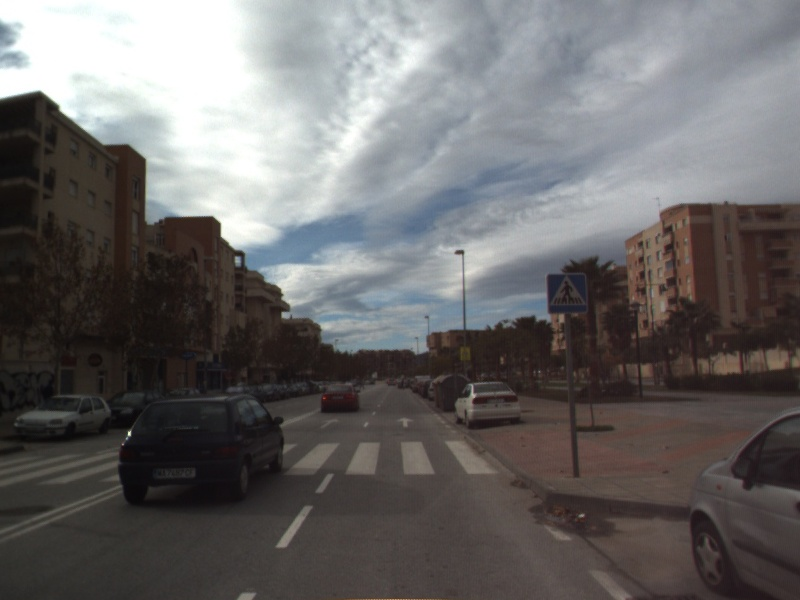STRAIGHT: (318, 416, 342, 430), (394, 415, 416, 429)
